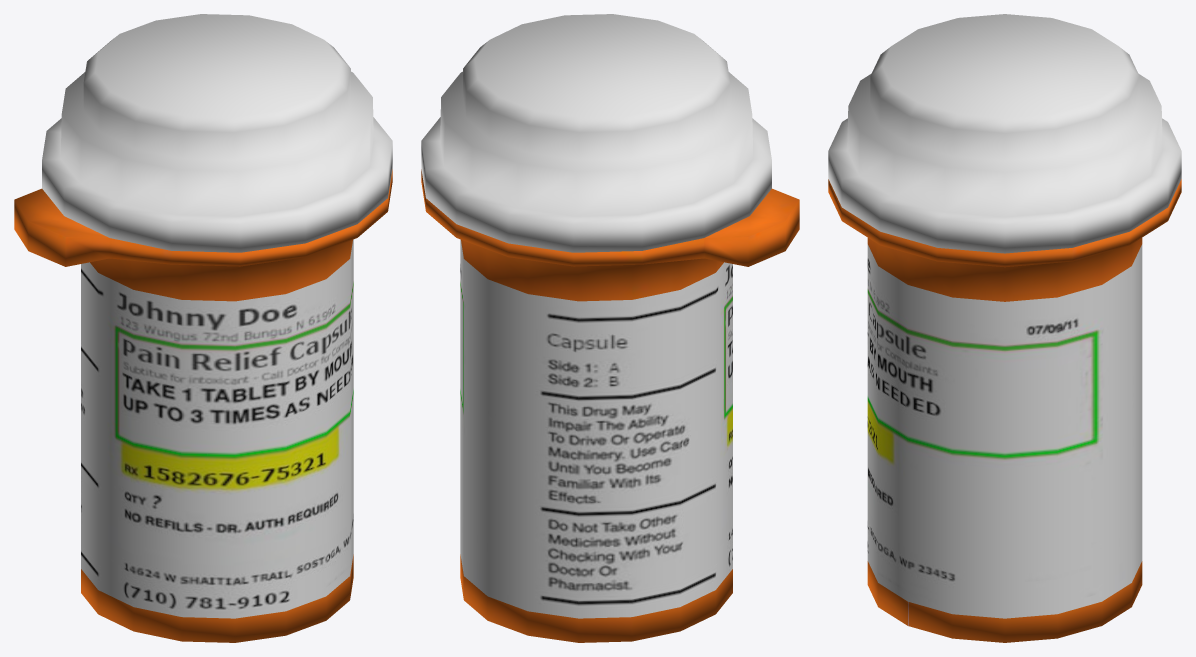
Rendered from PillBottle.fbx.
3 views of the same model, side by side, from view 1: azimuth 30°, elevation 25°; view 2: azimuth 150°, elevation 25°; view 3: azimuth 270°, elevation 25° (orthographic).
Visible parts, largest first — view 1: Cylinder.003, Cylinder.002; view 2: Cylinder.003, Cylinder.002; view 3: Cylinder.003, Cylinder.002.
Part boxes in pixels (x1=…): Cylinder.003: x1=14, y1=169, x2=392, y2=642; Cylinder.002: x1=42, y1=14, x2=392, y2=252; Cylinder.003: x1=421, y1=169, x2=799, y2=642; Cylinder.002: x1=421, y1=14, x2=771, y2=252; Cylinder.003: x1=828, y1=179, x2=1181, y2=642; Cylinder.002: x1=828, y1=14, x2=1181, y2=253.
Bounding box in the file's own units: 111 × 161 × 98.96.
1 material, 1 textured.
